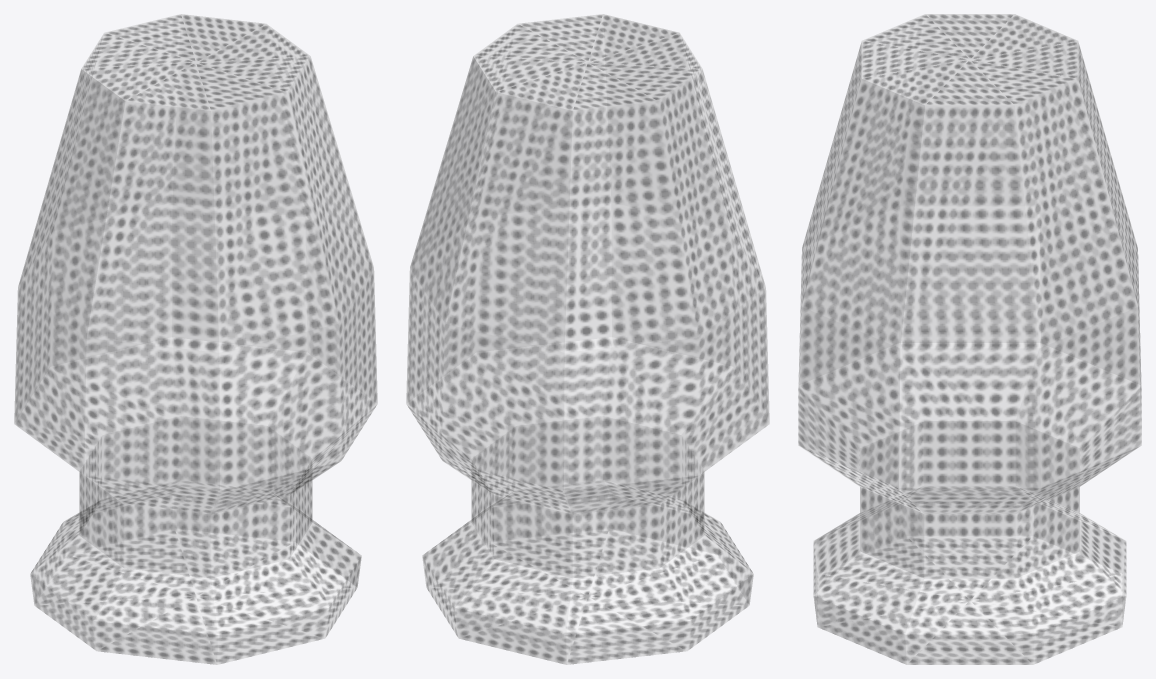
Rendered from sculptureVase.obj.
The picture shows the model from 3 angles, left to right: view 1: azimuth 30°, elevation 25°; view 2: azimuth 150°, elevation 25°; view 3: azimuth 270°, elevation 25°; orthographic projection.
Parts seen in each view (by area): view 1: sculptureVase; view 2: sculptureVase; view 3: sculptureVase.
Boxes of the visible parts, x1,y1,x2,y2 form: sculptureVase: [14, 14, 377, 664]; sculptureVase: [406, 14, 769, 664]; sculptureVase: [798, 14, 1141, 664].
Bounding box in the file's own units: 160 × 277 × 160.
